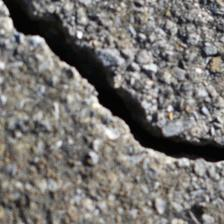Crack: (6, 7, 220, 168)
